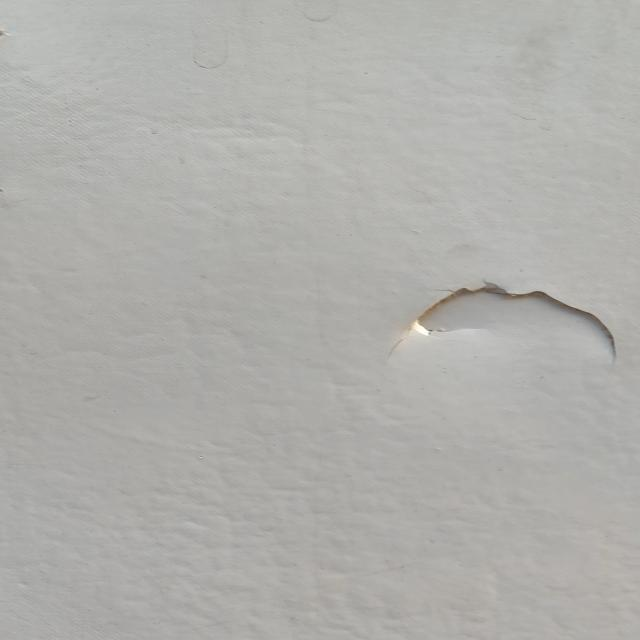Scratches: (394, 274, 632, 375)
